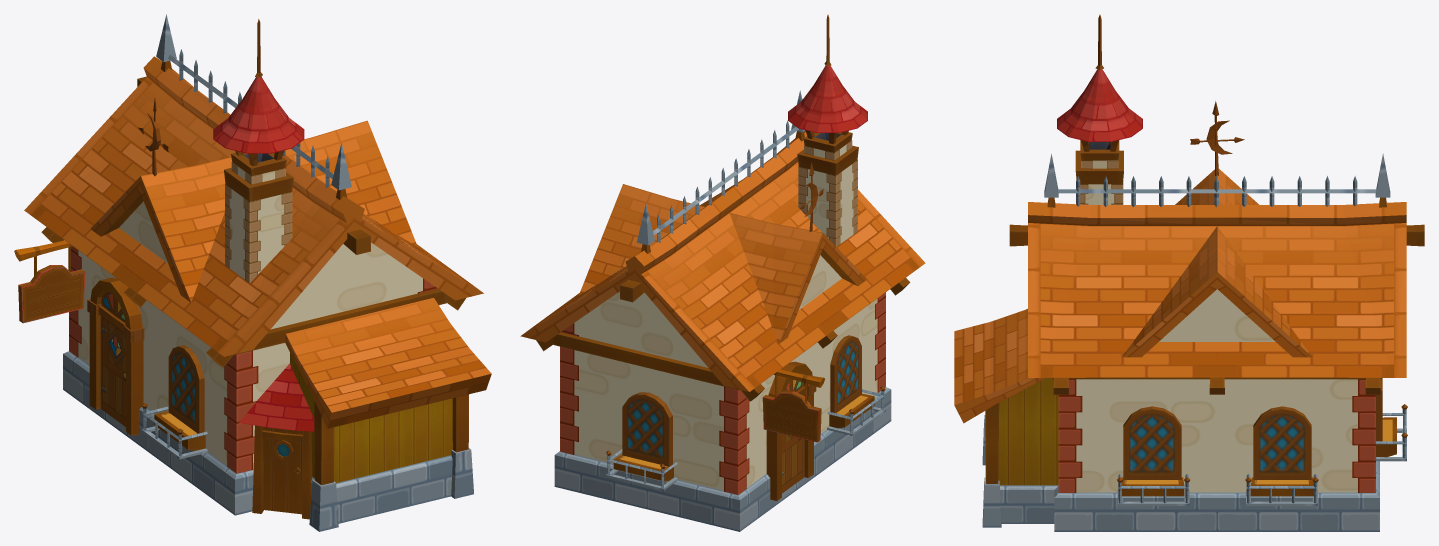
File: BLD0910012.fbx
The picture shows the model from 3 angles, left to right: view 1: azimuth 30°, elevation 25°; view 2: azimuth 150°, elevation 25°; view 3: azimuth 270°, elevation 25°; orthographic projection. The views are drawn at different scales.
Visible parts, largest first — view 1: smBLD0910012; view 2: smBLD0910012; view 3: smBLD0910012.
Boxes of the visible parts, x1=… form: smBLD0910012: x1=14, y1=14, x2=491, y2=531; smBLD0910012: x1=520, y1=14, x2=925, y2=531; smBLD0910012: x1=954, y1=14, x2=1424, y2=531.
Size of the model in its own units: 284 by 415 by 399.
1 material, 1 textured.
